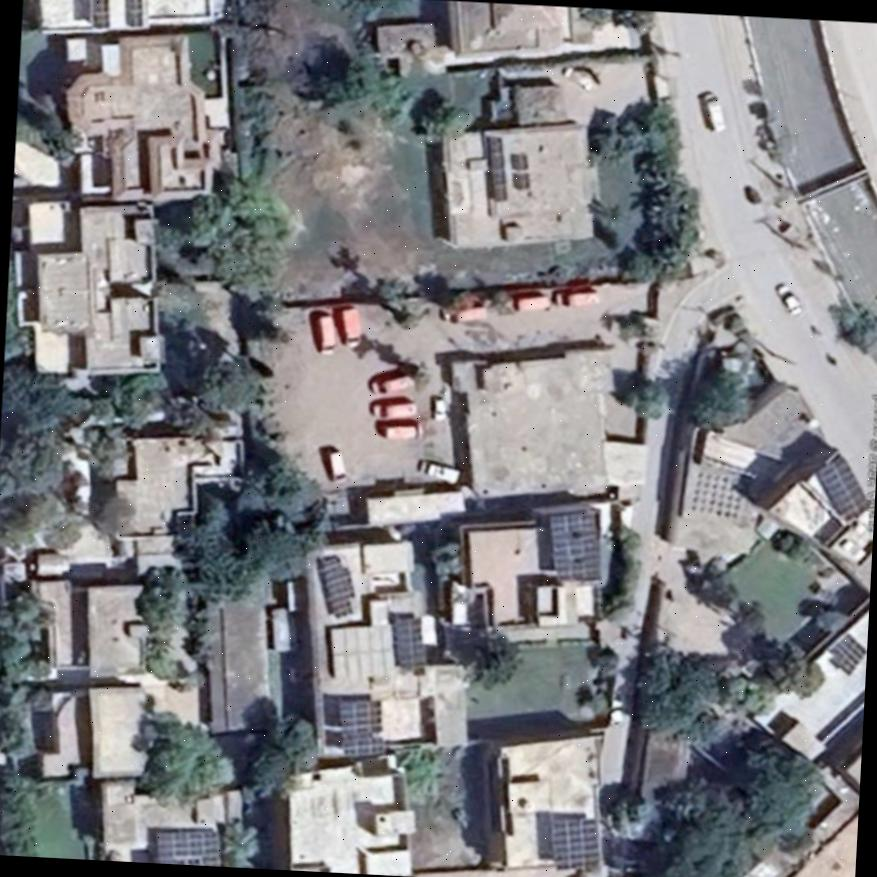Solarpanel: (553, 509, 599, 579), (818, 457, 866, 522), (548, 815, 601, 869), (336, 700, 381, 755), (155, 829, 220, 865), (320, 556, 353, 614), (396, 617, 426, 667), (829, 635, 865, 673)
